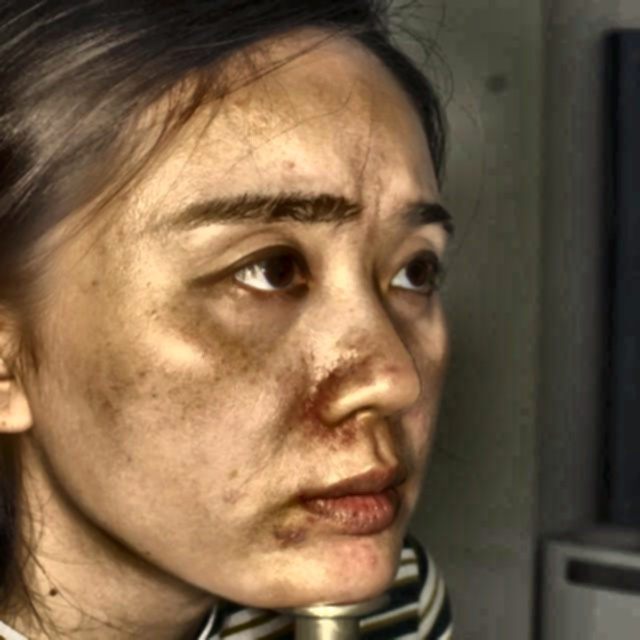comedone: (271, 520, 307, 542), (353, 546, 383, 568)
